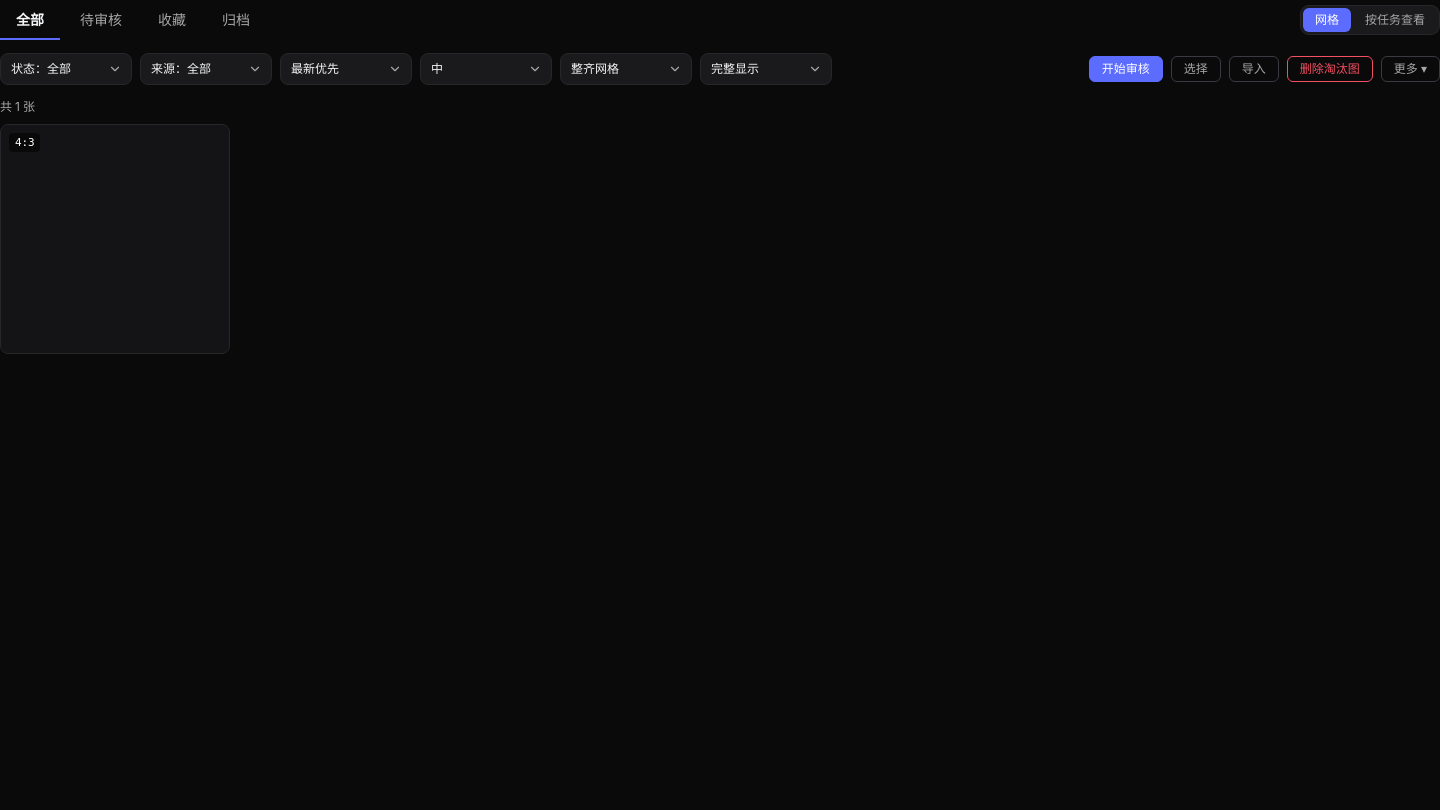
Test case: ImageDetail 详情信息栏与操作 › 展示尺寸/Seed/时间/Prompt，并有复制与删除入口
Expected: the text "共 1 张" is shown, [0,99,35,114]
Click the element with class "gal-card": (115, 239) [0,124,230,354]
(page scrolled)
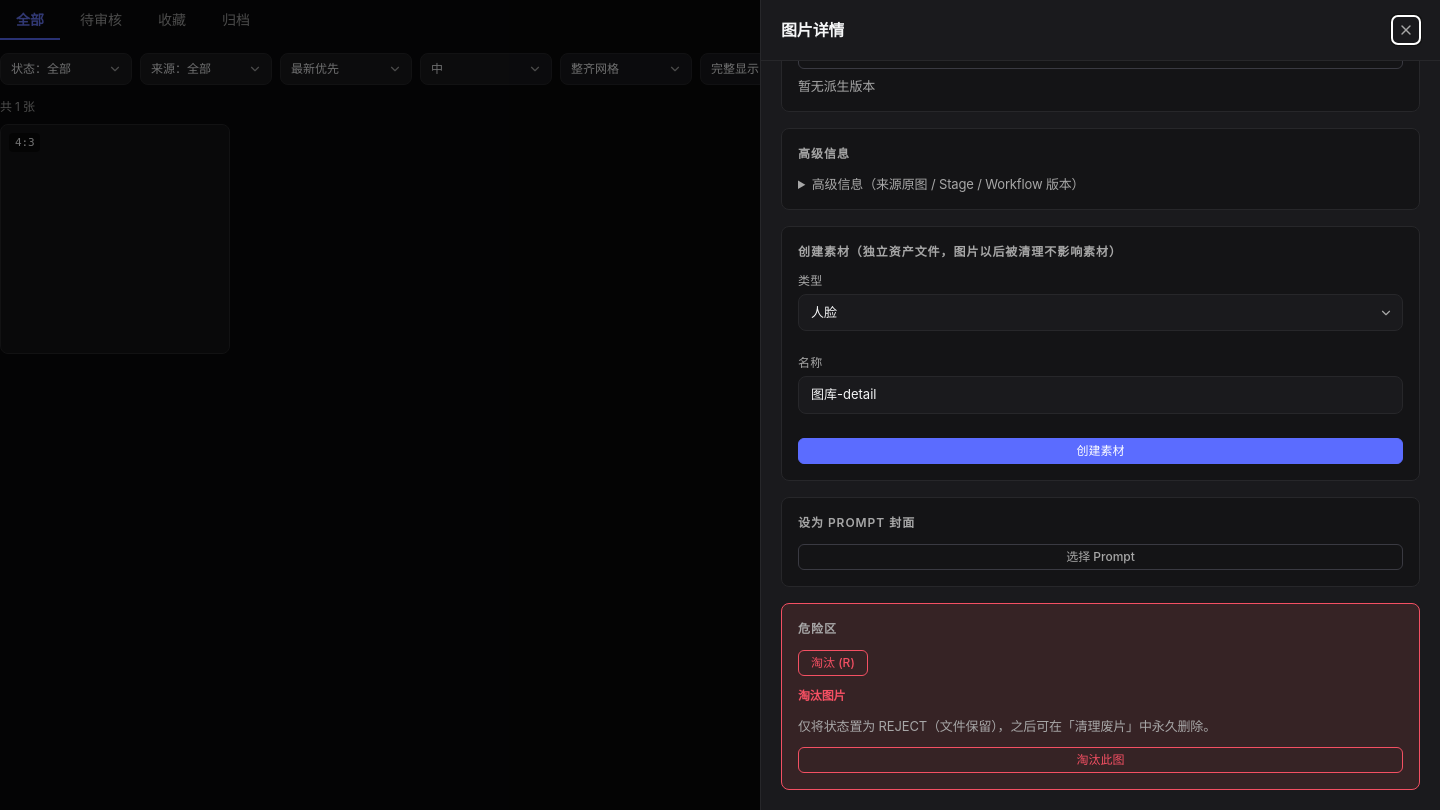
Now the heading "图片详情" is shown, box [781,19,844,41]
Now the button "淘汰此图" is shown, box [798,747,1403,773]
Now the button "选择 Prompt" is shown, box [798,544,1403,570]
